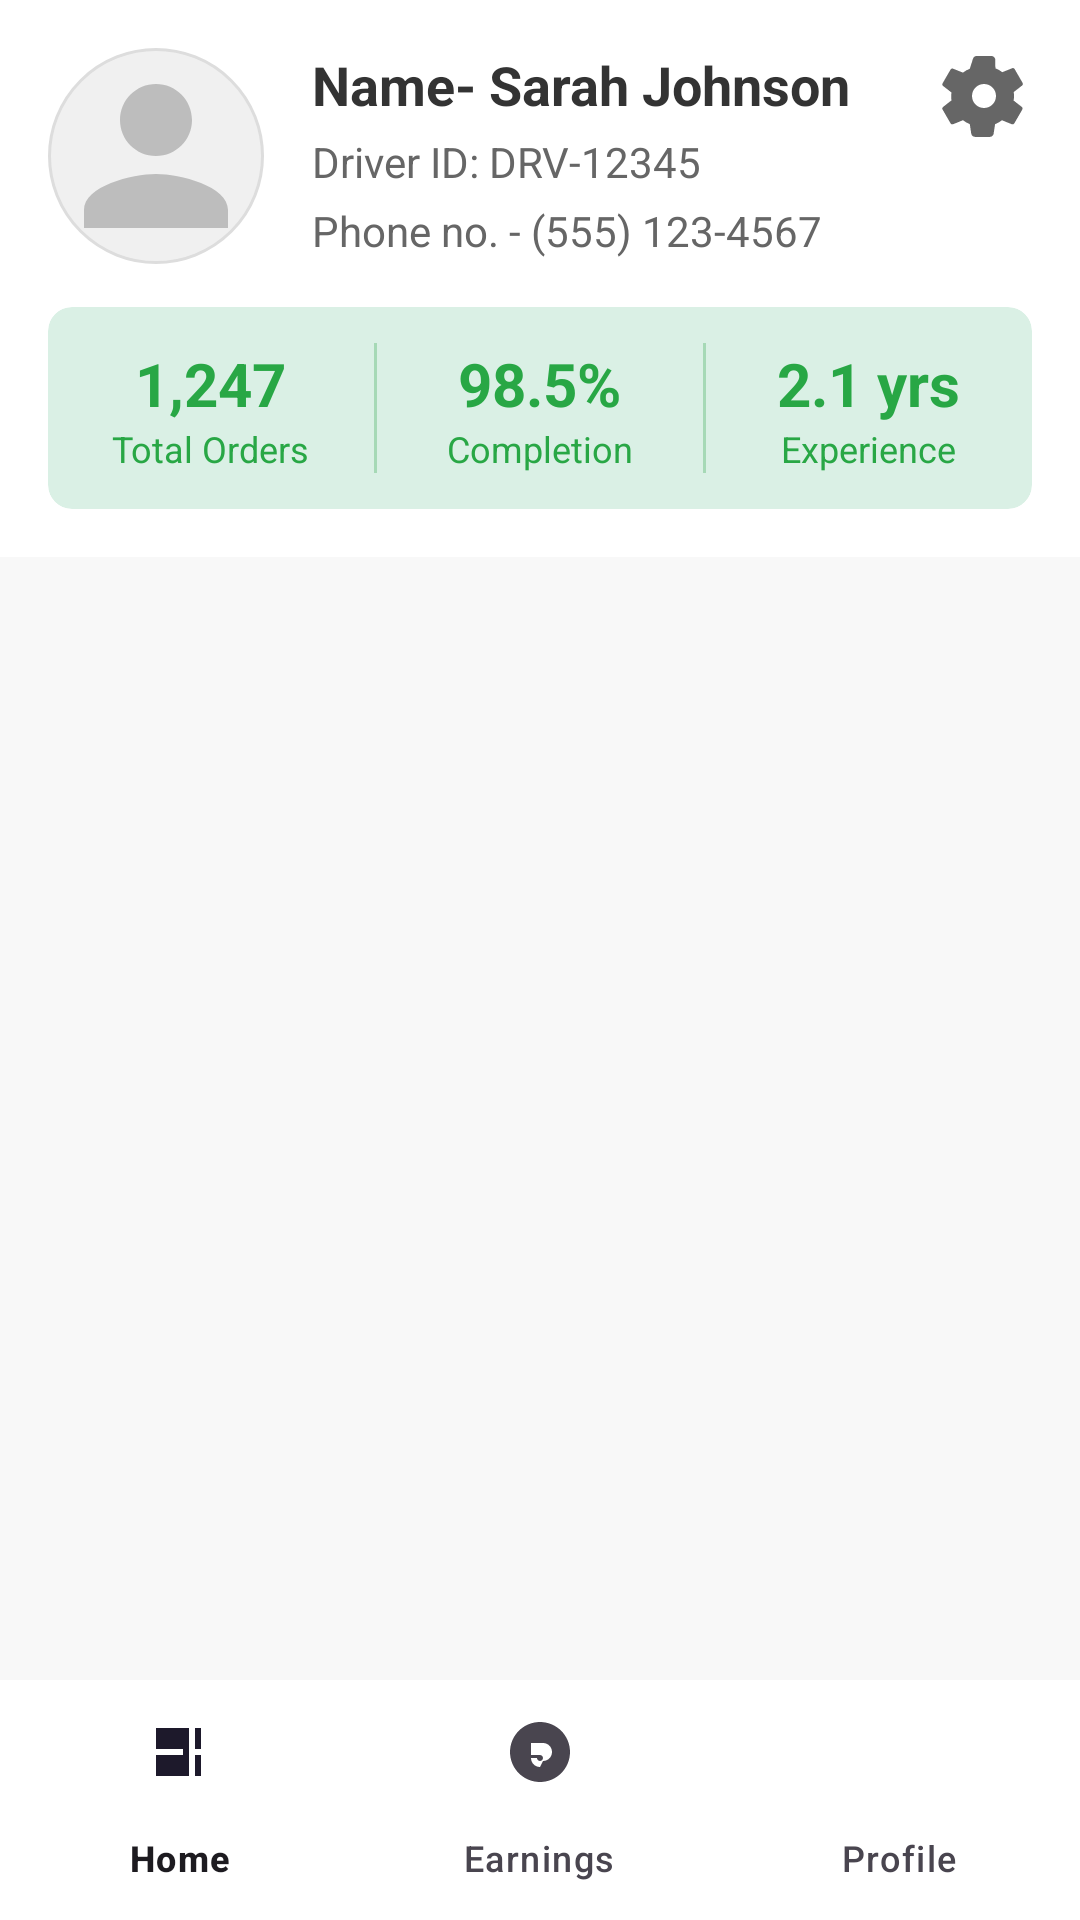

Screen size 1080w x 1920h. Icon name, then its center in pixels as (x,y):
Settings: (982,96)
